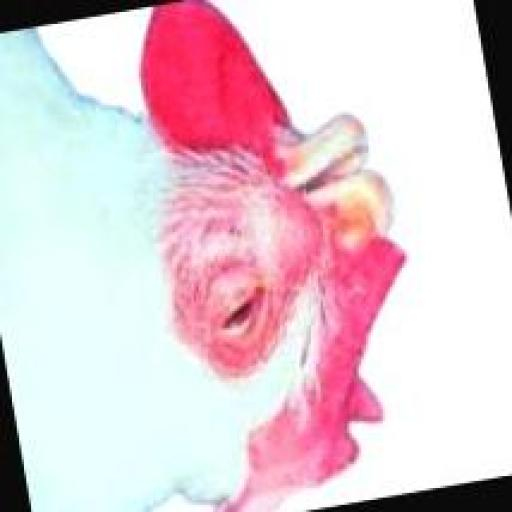disease: (208, 240, 301, 353)
